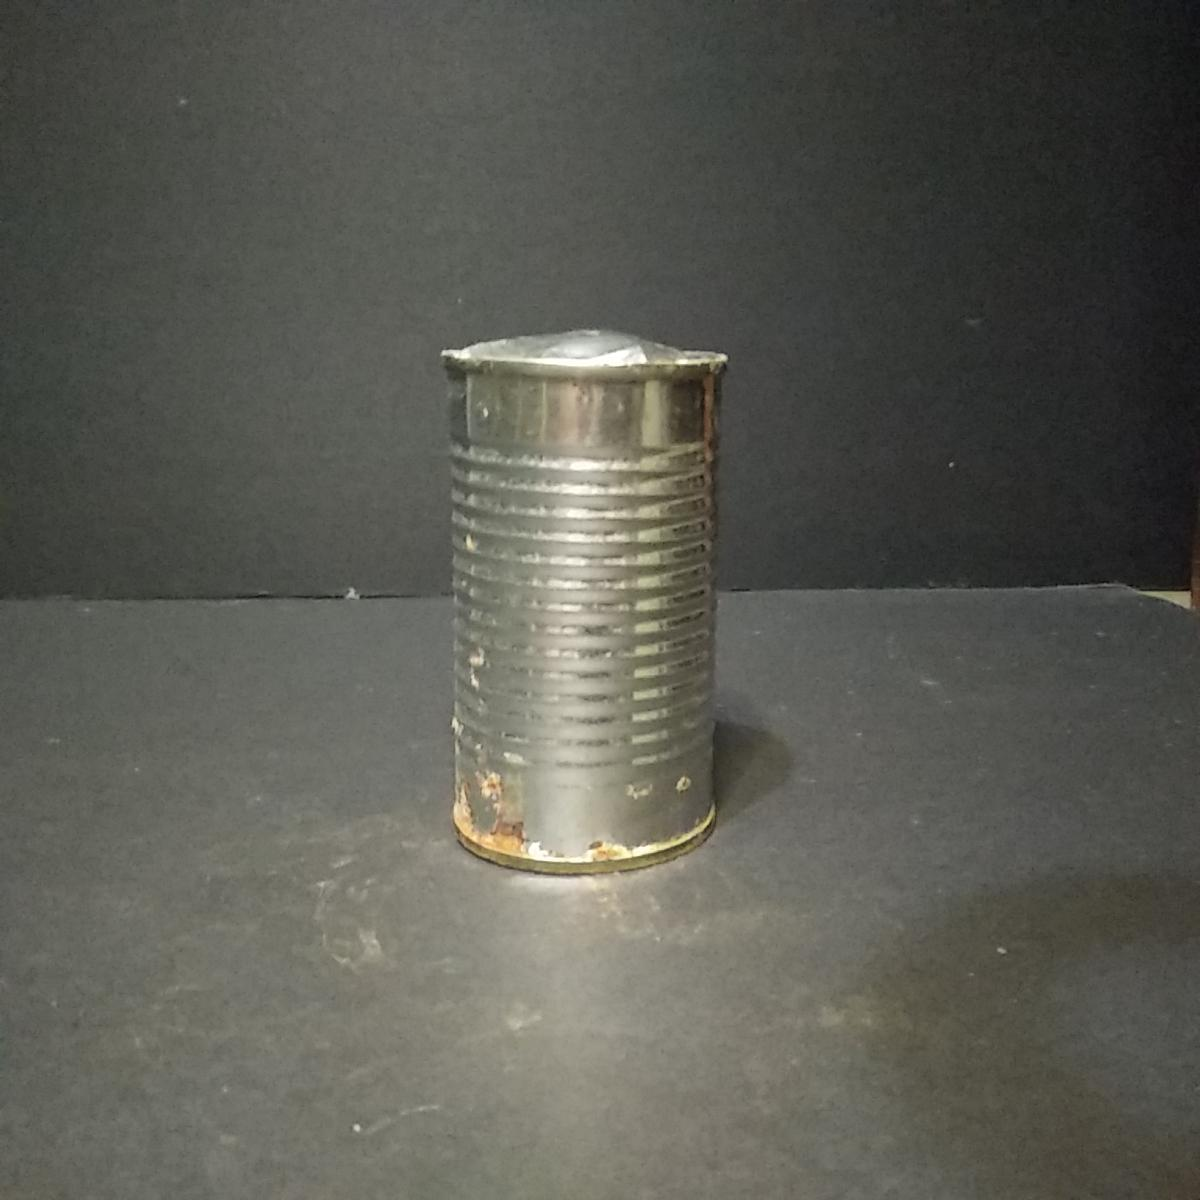Dented: (430, 314, 738, 888)
